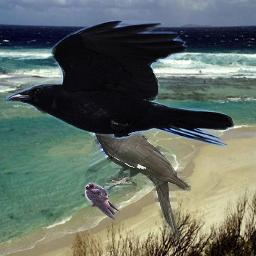Crow: (6, 20, 236, 148)
Swallow: (84, 182, 120, 220)
Woodpecker: (69, 91, 191, 241)
